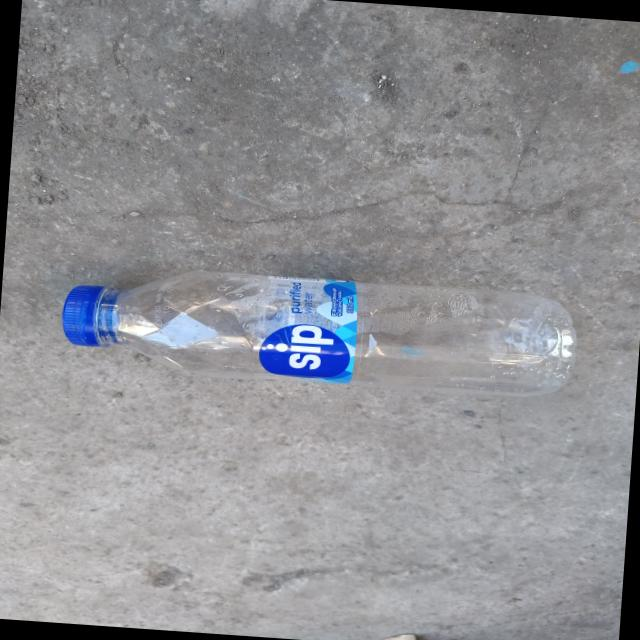Bottle: (62, 272, 575, 395)
